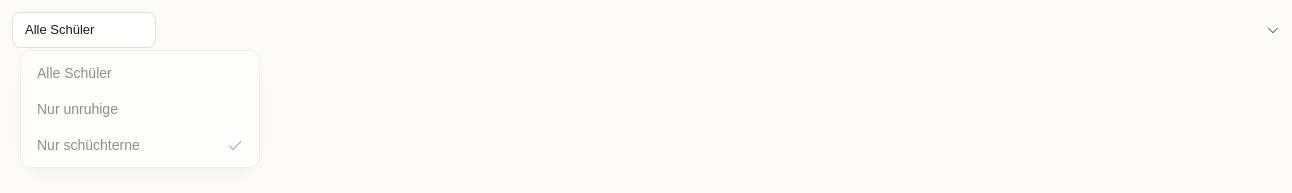
WorkbenchSelect › reports the picked value and closes
Click the button with aria-label "Nach Merkmal".
click(84, 30)  # box [12,12,156,48]
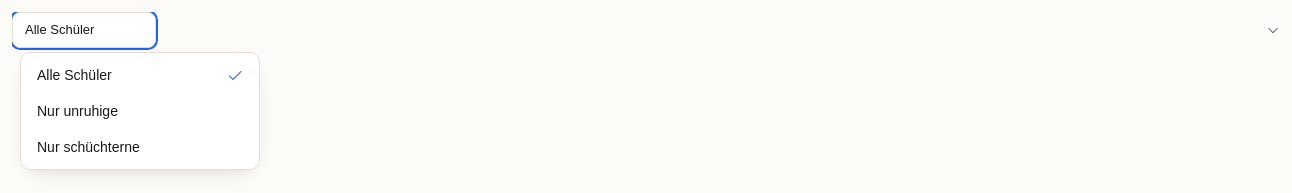
Click the option "Nur unruhige".
click(140, 111)  # box [25,93,255,129]
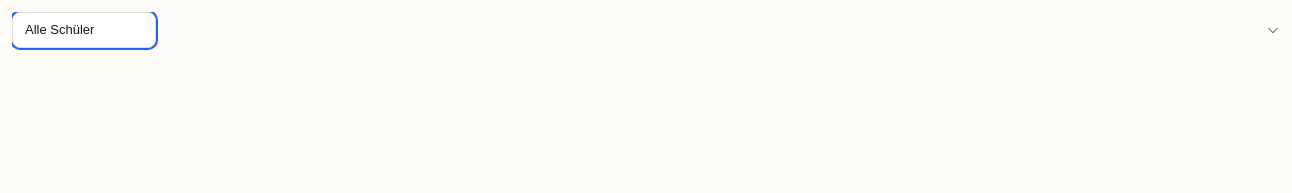
Now the list is gone
